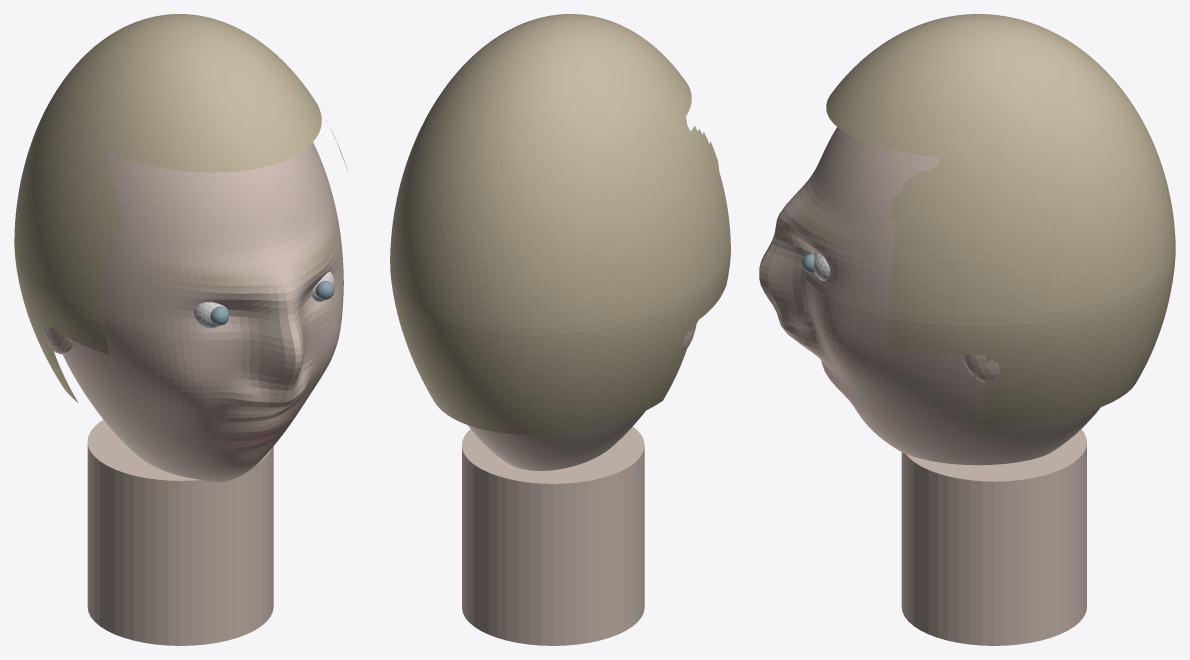
File: erna_solberg_head.glb
3 views of the same model, side by side, from view 1: azimuth 30°, elevation 25°; view 2: azimuth 150°, elevation 25°; view 3: azimuth 270°, elevation 25° (orthographic).
Visible parts, largest first — view 1: geometry_0, geometry_1, geometry_8, geometry_5; view 2: geometry_1, geometry_8, geometry_0; view 3: geometry_1, geometry_0, geometry_8, geometry_2.
Boxes of the visible parts, bbox=[...] form: geometry_0: bbox=[62, 142, 343, 482]; geometry_1: bbox=[14, 14, 347, 402]; geometry_8: bbox=[87, 420, 273, 645]; geometry_5: bbox=[42, 326, 74, 354]; geometry_1: bbox=[390, 14, 730, 434]; geometry_8: bbox=[462, 426, 644, 645]; geometry_0: bbox=[468, 411, 645, 470]; geometry_1: bbox=[826, 14, 1175, 426]; geometry_0: bbox=[759, 127, 1100, 465]; geometry_8: bbox=[901, 429, 1086, 645]; geometry_2: bbox=[962, 355, 999, 381].
Size of the model in its own units: 0.164 by 0.319 by 0.2066.
